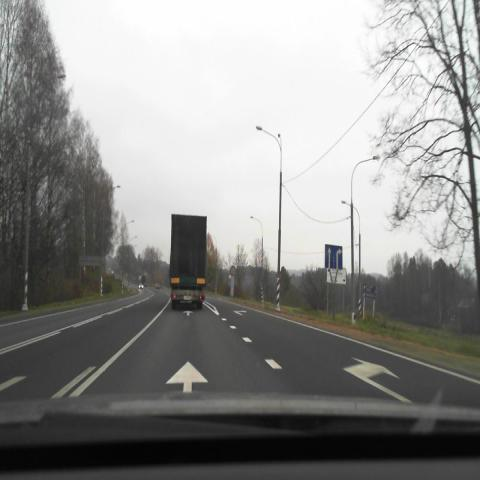5_15_2_2: (325, 244, 342, 269)
